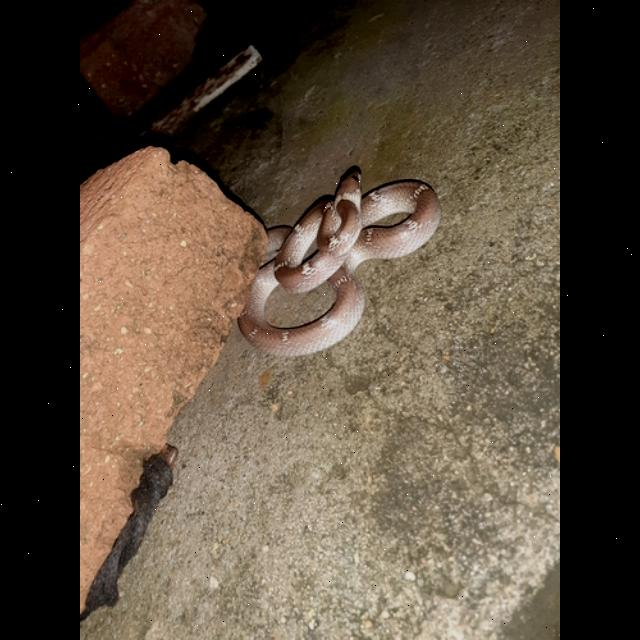snake: (225, 160, 452, 354)
